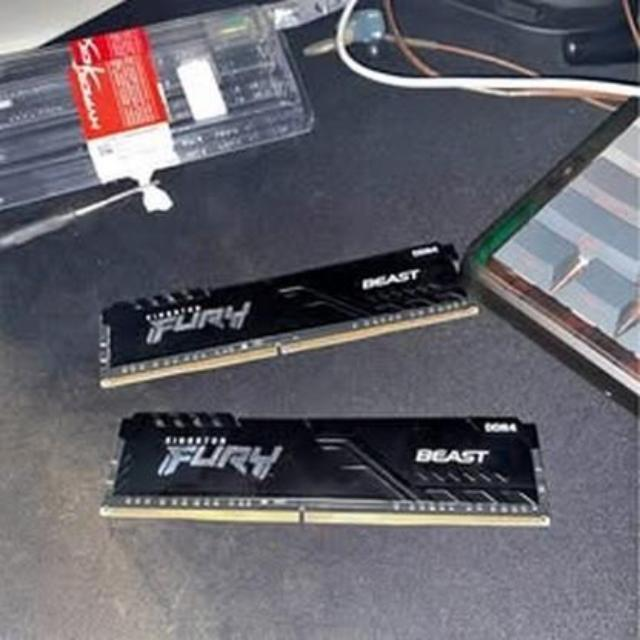RAM: (87, 398, 555, 546), (76, 240, 492, 392)
